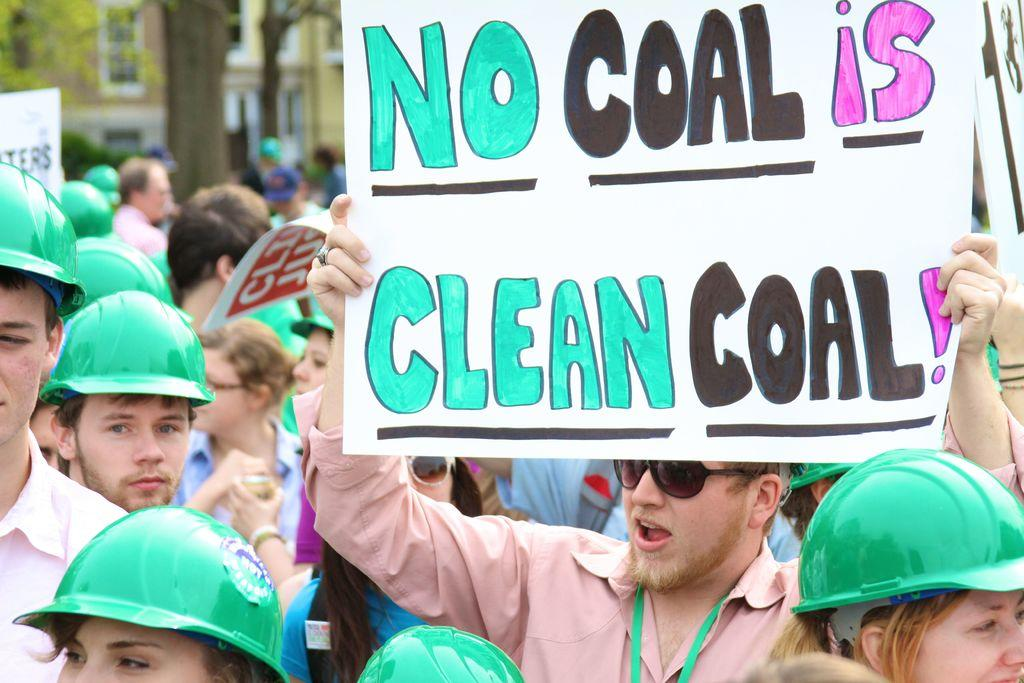helmet: (789, 448, 1024, 683), (12, 505, 291, 683), (39, 290, 216, 509), (0, 162, 88, 443)
nohelmet: (165, 182, 279, 320), (183, 317, 291, 439), (118, 156, 174, 226)
